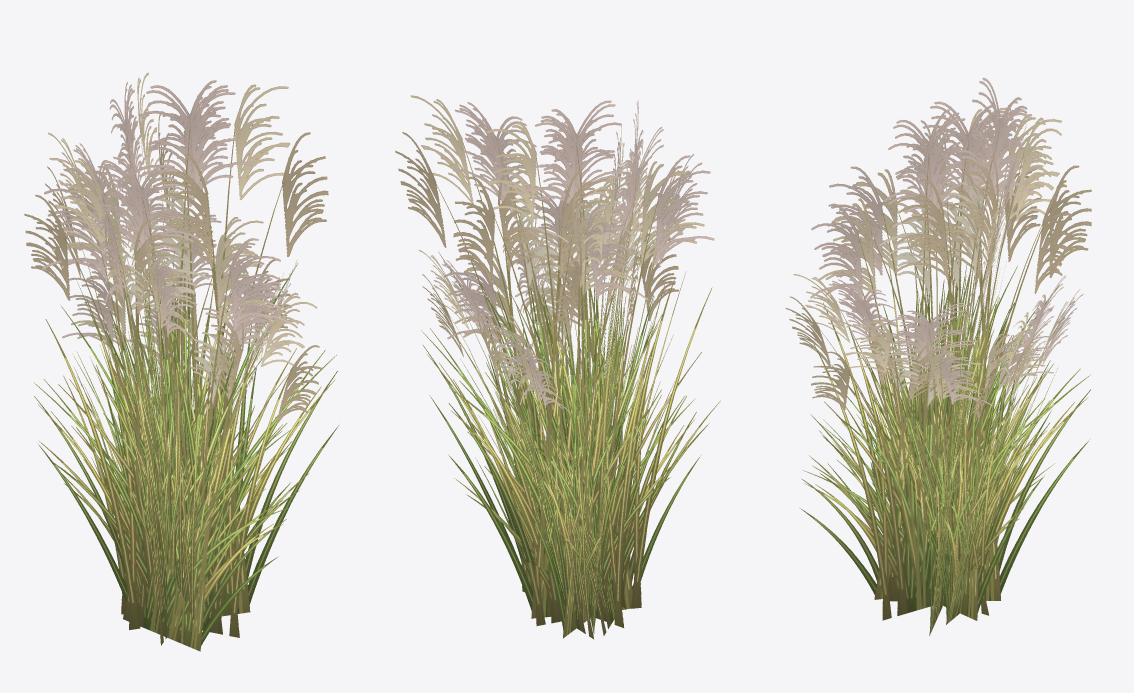
File: Susuki_A.fbx
3 renders of one model, left to right at view 1: azimuth 30°, elevation 25°; view 2: azimuth 150°, elevation 25°; view 3: azimuth 270°, elevation 25°, orthographic. The views are drawn at different scales.
Parts seen in each view (by area): view 1: Susuki_A; view 2: Susuki_A; view 3: Susuki_A.
Part boxes in pixels (bbox=[...]): Susuki_A: bbox=[24, 72, 338, 651]; Susuki_A: bbox=[395, 95, 720, 639]; Susuki_A: bbox=[785, 77, 1091, 635].
Size of the model in its own units: 0.9217 by 1.63 by 0.9899.
1 material, 1 textured.
